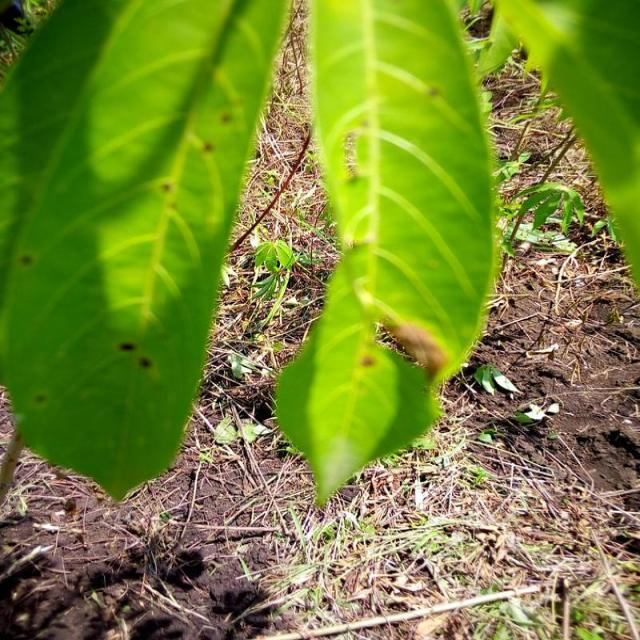cassava leaf: (0, 0, 293, 502), (273, 0, 495, 507)
